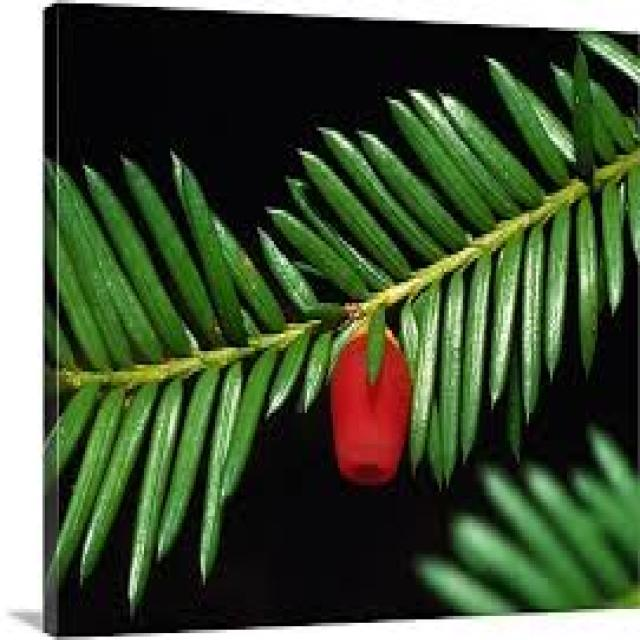Organik: (41, 143, 640, 425), (327, 329, 411, 473)
